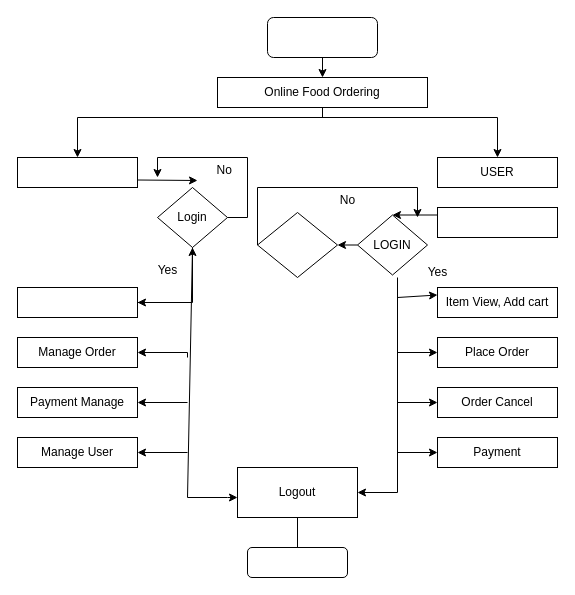
Some shapes in this 575 by 595 pixel diagram are drawn without their labels. The centre of each missing label's shape, as x and y in pixels:
ADMIN: [77,172]
End: [297,562]
Item Manage: [77,302]
REG: [297,245]
Show item: [497,222]
Start: [322,37]
